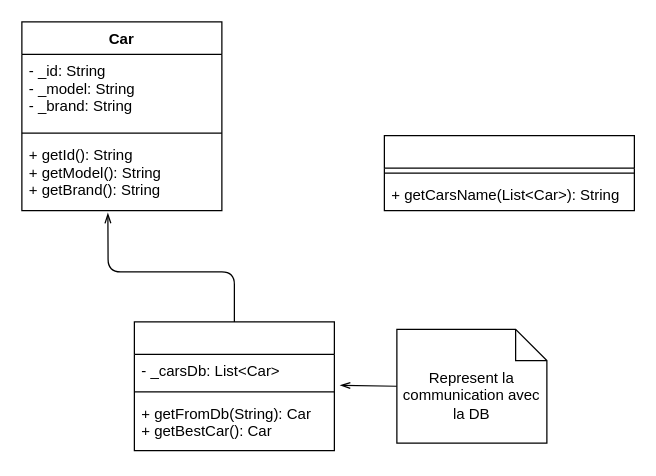
This 656x476 diagram has some shape labels left out. The box of each missing label's shape, as (x1, y1, x2, y2) in pixels:
CarFormatter: (383, 134, 634, 211)
CarRepository: (133, 321, 334, 451)
